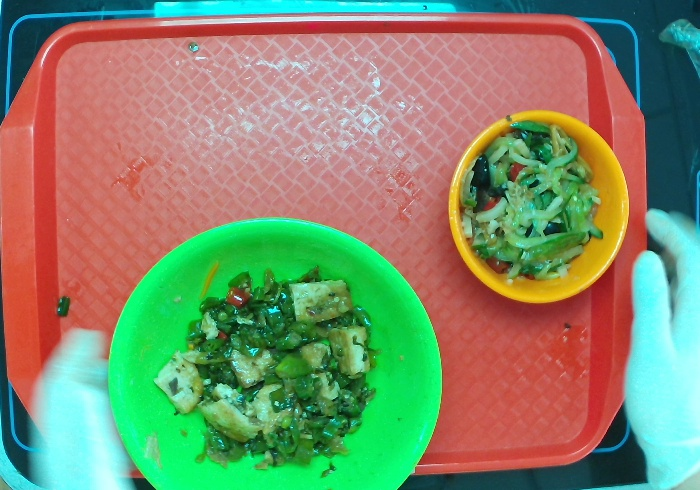YKMZ-Ju_Se_Yuan_Wan: (440, 101, 636, 314)
YKMZ-Lv_Se_Tang_Wan: (94, 197, 453, 490)
